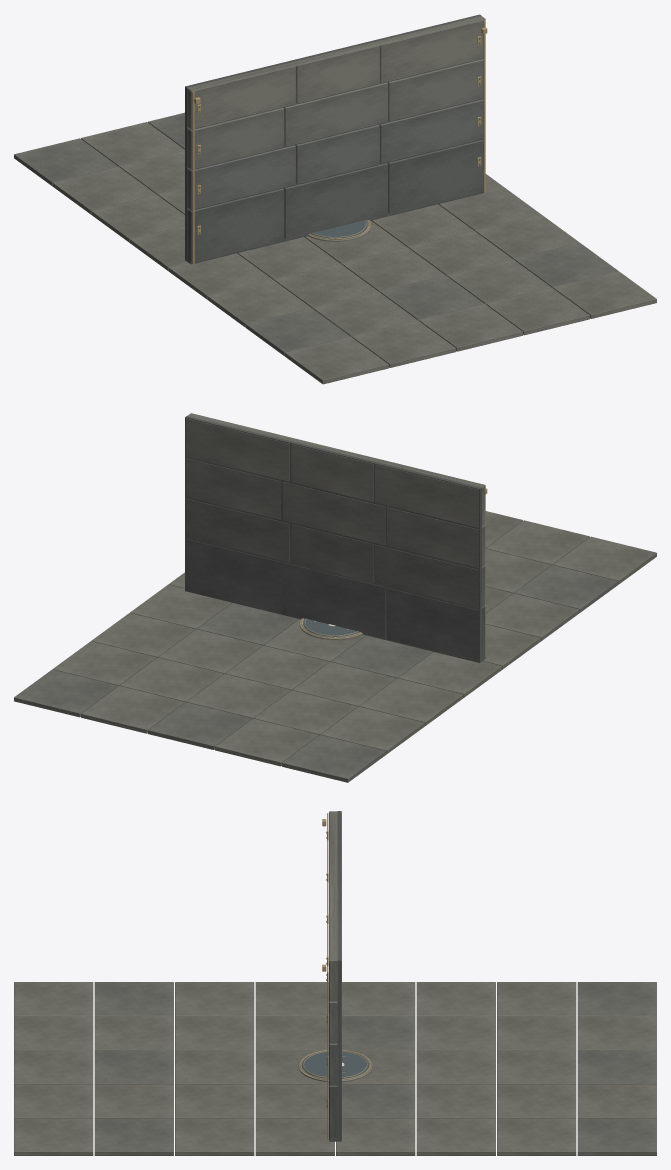
Rendered from strata-inlays-v01.glb.
3 renders of one model, top to bottom at view 1: azimuth 30°, elevation 25°; view 2: azimuth 150°, elevation 25°; view 3: azimuth 270°, elevation 25°, orthographic. The views are drawn at different scales.
Visible parts, largest first — view 1: Wide limestone paving.041, Broad carved limestone layer.012, Broad carved limestone layer.021, Broad carved limestone layer.018, Broad carved limestone layer.015, Wide limestone paving.040, Bronze layer keeper.008, Inset slate walking face.004; view 2: Wide limestone paving.041, Broad carved limestone layer.012, Wide limestone paving.040, Broad carved limestone layer.021, Broad carved limestone layer.015, Broad carved limestone layer.018, Inset slate walking face.004; view 3: Wide limestone paving.041, Wide limestone paving.040, Broad carved limestone layer.012, Broad carved limestone layer.021, Inset slate walking face.004, Bronze layer keeper.008.
Boxes of the visible parts, x1,y1,x2,y2 form: Wide limestone paving.041: (52,122,656,384); Broad carved limestone layer.012: (185,14,483,264); Broad carved limestone layer.021: (185,16,485,129); Broad carved limestone layer.018: (187,58,483,169); Broad carved limestone layer.015: (187,99,483,210); Wide limestone paving.040: (14,112,617,355); Bronze layer keeper.008: (192,20,487,263); Inset slate walking face.004: (311,220,367,238); Wide limestone paving.041: (52,511,656,766); Broad carved limestone layer.012: (185,416,485,662); Wide limestone paving.040: (14,565,618,782); Broad carved limestone layer.021: (186,413,485,527); Broad carved limestone layer.015: (186,498,485,608); Broad carved limestone layer.018: (186,458,485,567); Inset slate walking face.004: (303,618,359,636); Wide limestone paving.041: (14,982,656,1155); Wide limestone paving.040: (94,982,656,1155); Broad carved limestone layer.012: (329,811,341,1141); Broad carved limestone layer.021: (329,811,341,1001); Inset slate walking face.004: (302,1051,368,1078); Bronze layer keeper.008: (322,813,328,1139).
Bounding box in the file's own units: 9.98 × 5.54 × 15.98.
11 materials, 7 textured.
